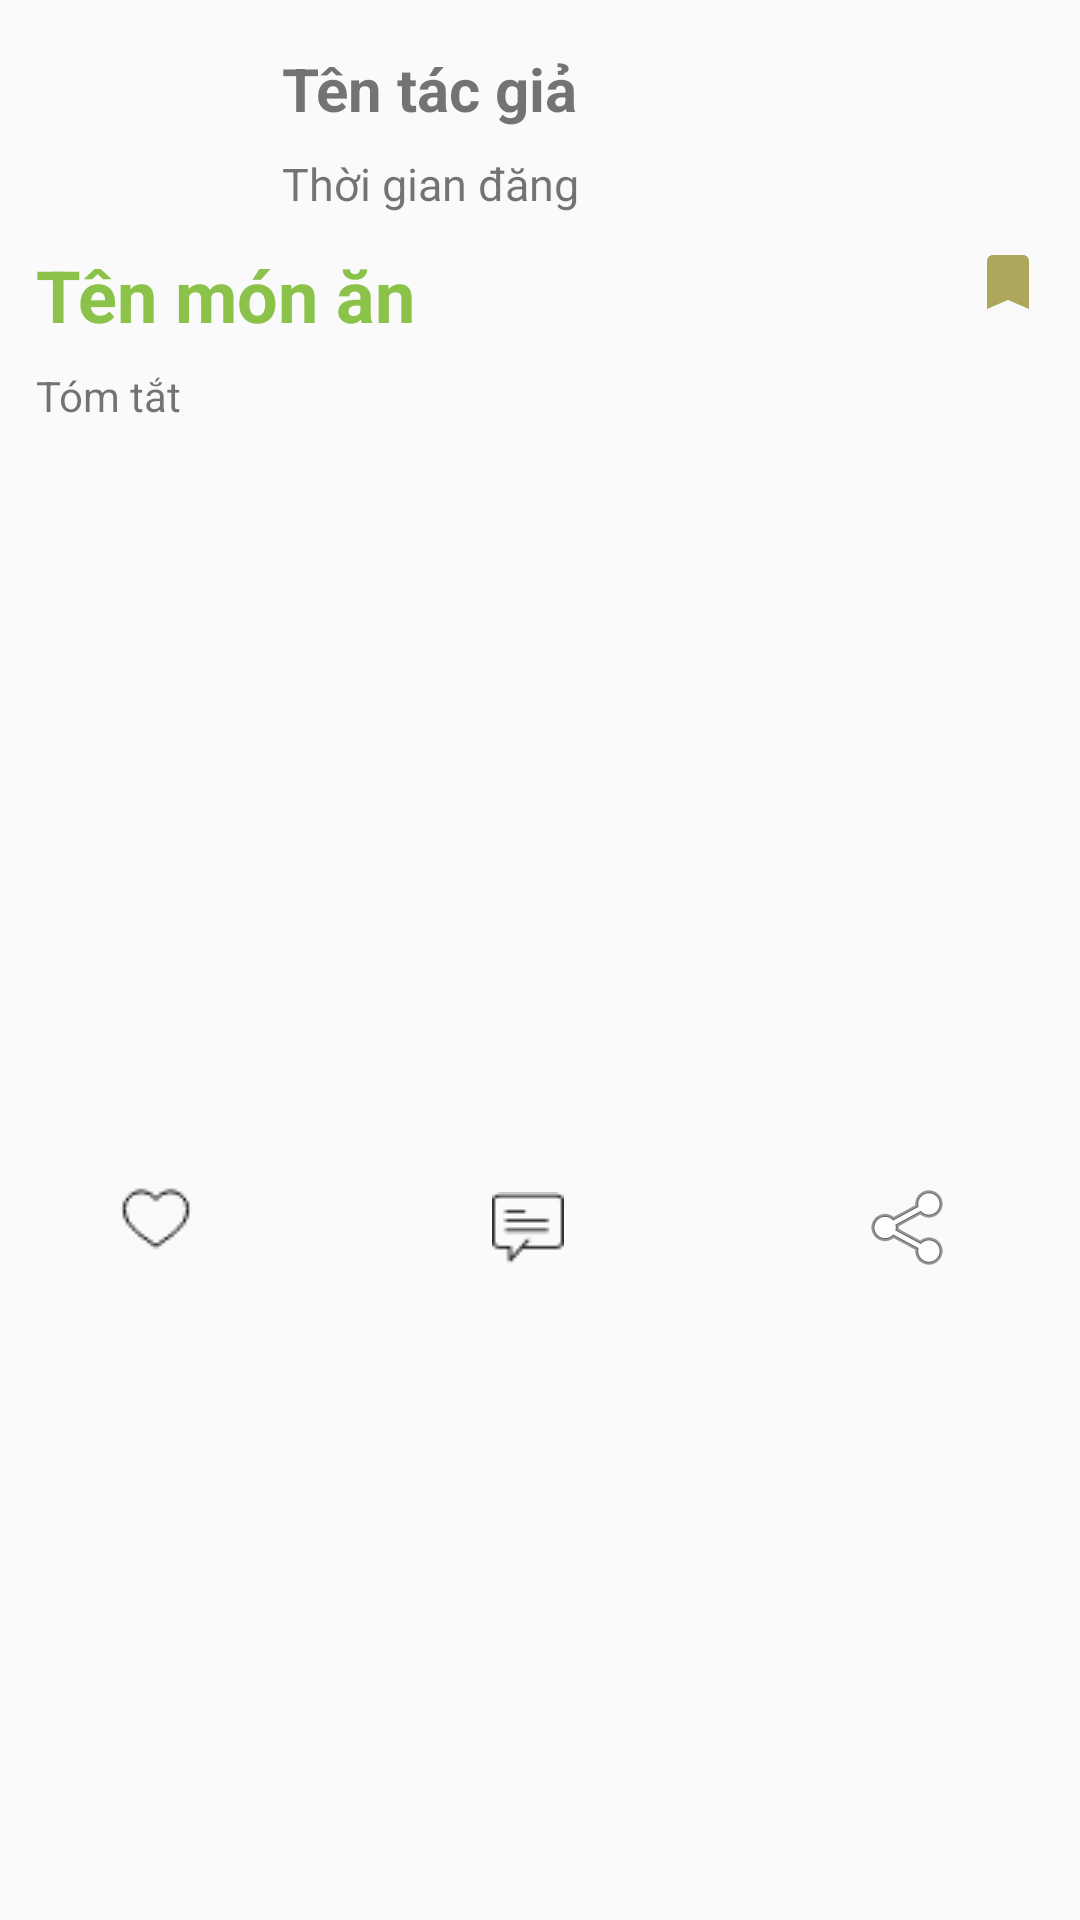

Icon click points for this 1080*1920 phone screenshot, format (x,y):
bookmark: (1008,282)
chat: (528,1227)
favorite: (156,1218)
share: (907,1227)
